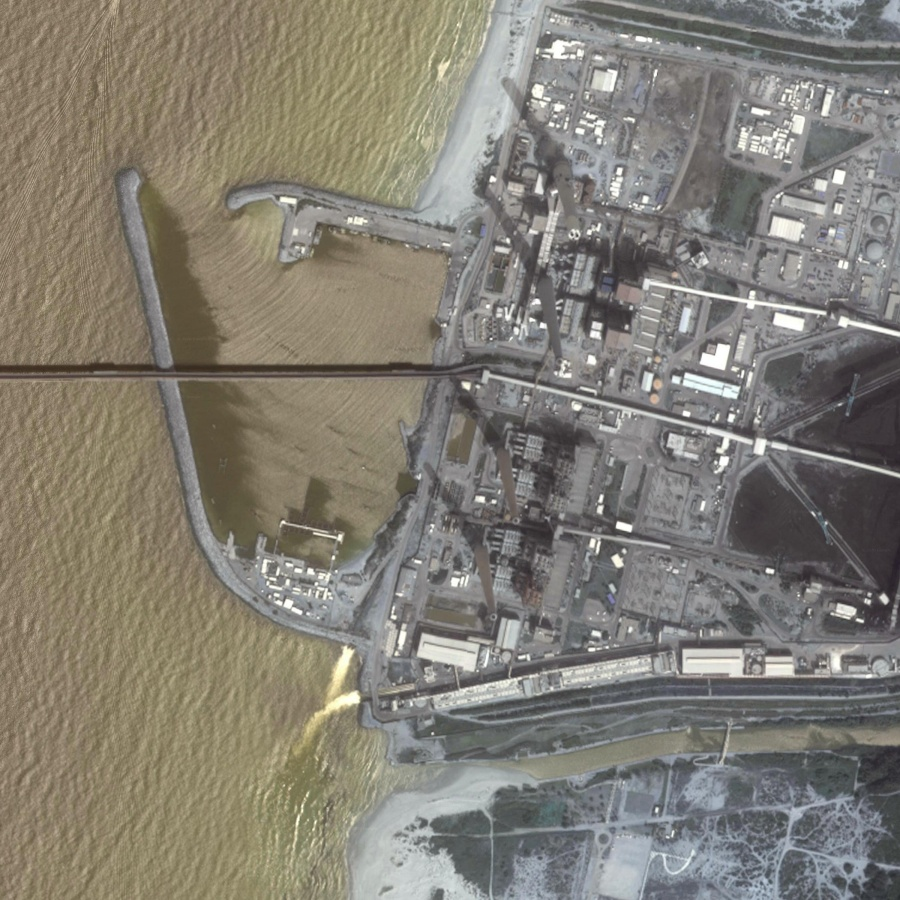PowerPlant: (390, 207, 651, 628)
